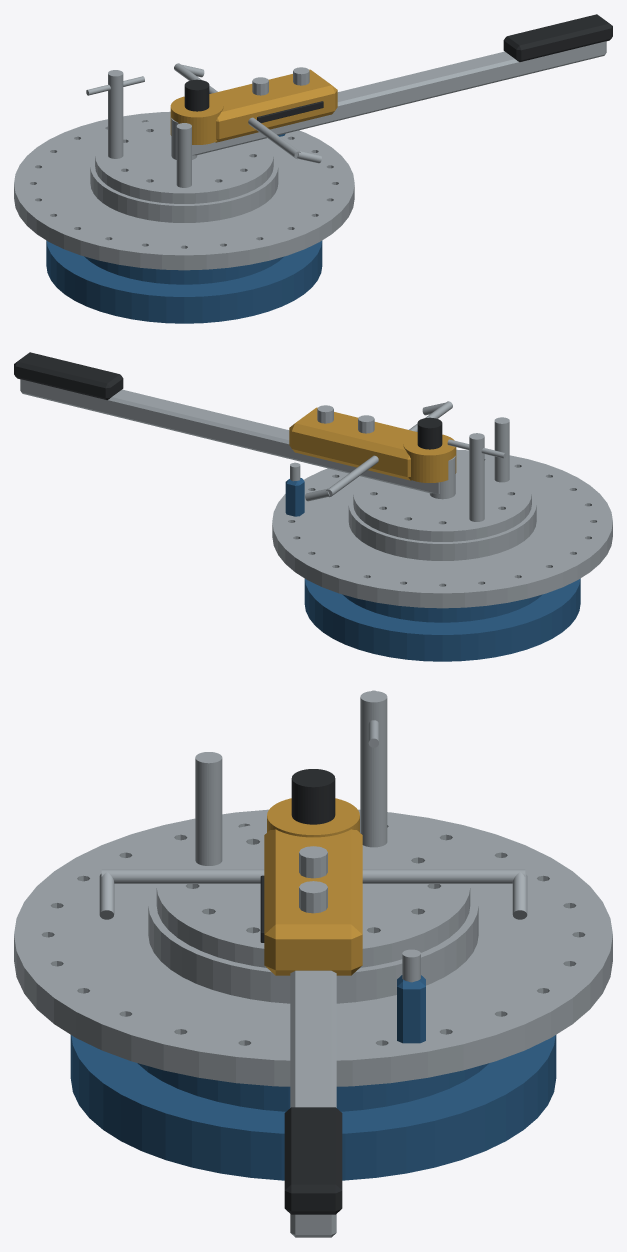
The model's file is full.fbx.
The picture shows the model from 3 angles, top to bottom: view 1: azimuth 30°, elevation 25°; view 2: azimuth 150°, elevation 25°; view 3: azimuth 270°, elevation 25°; orthographic projection. The views are drawn at different scales.
Parts seen in each view (by area): view 1: Perforated round worktable, Circular mounting foot, Perforated pin table, Radial long arm, Main clamp carriage, Raised forming bed, Long end grip, Pedestal neck, Raised forming boss, Upright stop pin B, Upright stop pin A, Unmarked central fastener (+2 smaller); view 2: Perforated round worktable, Circular mounting foot, Perforated pin table, Radial long arm, Main clamp carriage, Raised forming bed, Long end grip, Pedestal neck, Raised forming boss, Upright stop pin B, Upright stop pin A, Unmarked central fastener (+3 smaller); view 3: Perforated round worktable, Circular mounting foot, Perforated pin table, Main clamp carriage, Raised forming bed, Radial long arm, Long end grip, Pedestal neck, Upright stop pin B, Upright stop pin A, Transverse clamp handle 1, Unmarked central fastener (+5 smaller).
Part boxes in pixels (x1=…): Perforated round worktable: x1=14, y1=111, x2=354, y2=270; Circular mounting foot: x1=46, y1=240, x2=322, y2=323; Perforated pin table: x1=95, y1=118, x2=273, y2=203; Radial long arm: x1=192, y1=41, x2=606, y2=155; Main clamp carriage: x1=209, y1=69, x2=337, y2=142; Raised forming bed: x1=90, y1=154, x2=278, y2=222; Long end grip: x1=503, y1=14, x2=612, y2=61; Pedestal neck: x1=84, y1=256, x2=284, y2=284; Raised forming boss: x1=170, y1=96, x2=223, y2=144; Upright stop pin B: x1=108, y1=70, x2=123, y2=158; Upright stop pin A: x1=176, y1=123, x2=191, y2=187; Unmarked central fastener: x1=184, y1=79, x2=209, y2=111; Perforated round worktable: x1=272, y1=449, x2=612, y2=608; Circular mounting foot: x1=304, y1=578, x2=580, y2=661; Perforated pin table: x1=353, y1=456, x2=531, y2=541; Radial long arm: x1=20, y1=379, x2=439, y2=494; Main clamp carriage: x1=289, y1=407, x2=417, y2=480; Raised forming bed: x1=348, y1=492, x2=536, y2=560; Long end grip: x1=14, y1=352, x2=123, y2=399; Pedestal neck: x1=342, y1=594, x2=542, y2=622; Raised forming boss: x1=403, y1=434, x2=456, y2=482; Upright stop pin B: x1=469, y1=433, x2=484, y2=521; Upright stop pin A: x1=494, y1=417, x2=509, y2=482; Unmarked central fastener: x1=417, y1=417, x2=442, y2=449; Perforated round worktable: x1=14, y1=809, x2=612, y2=1086; Circular mounting foot: x1=70, y1=1035, x2=556, y2=1180; Perforated pin table: x1=156, y1=823, x2=470, y2=967; Main clamp carriage: x1=264, y1=829, x2=362, y2=975; Raised forming bed: x1=148, y1=884, x2=478, y2=1003; Radial long arm: x1=290, y1=970, x2=336, y2=1237; Long end grip: x1=284, y1=1107, x2=342, y2=1214; Pedestal neck: x1=137, y1=1063, x2=489, y2=1111; Upright stop pin B: x1=360, y1=691, x2=387, y2=847; Upright stop pin A: x1=195, y1=752, x2=222, y2=865; Transverse clamp handle 1: x1=362, y1=869, x2=525, y2=883; Unmarked central fastener: x1=291, y1=769, x2=335, y2=824.
Bounding box in the file's own units: 112 × 36.1 × 58.
